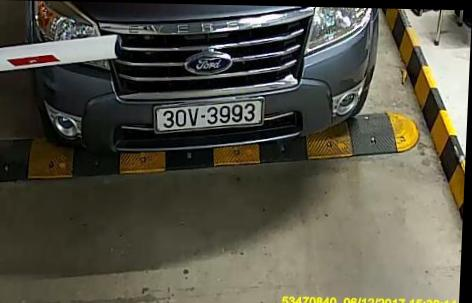License_Plate: (142, 97, 275, 138)
